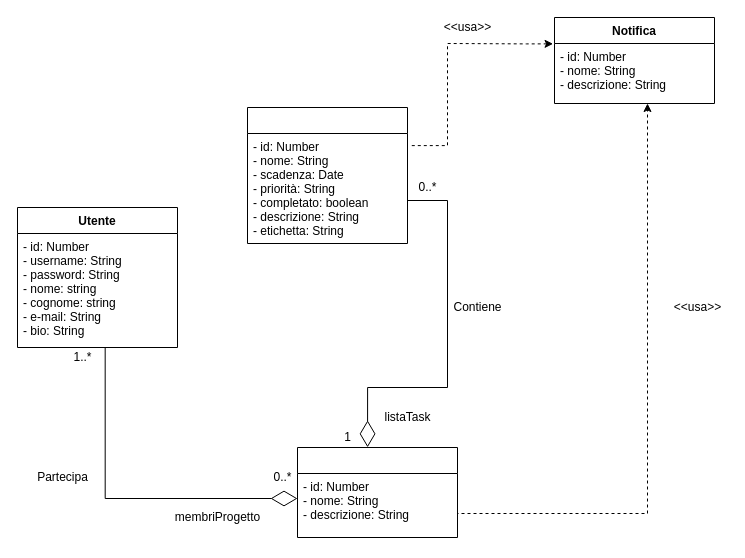
Image size: 745x558. Some labels were removed from this diagram. Here are the shapes that lost their labels. From the top down, the box of each, then its label:
(246, 106, 408, 244): Task
(296, 446, 458, 538): Progetto
